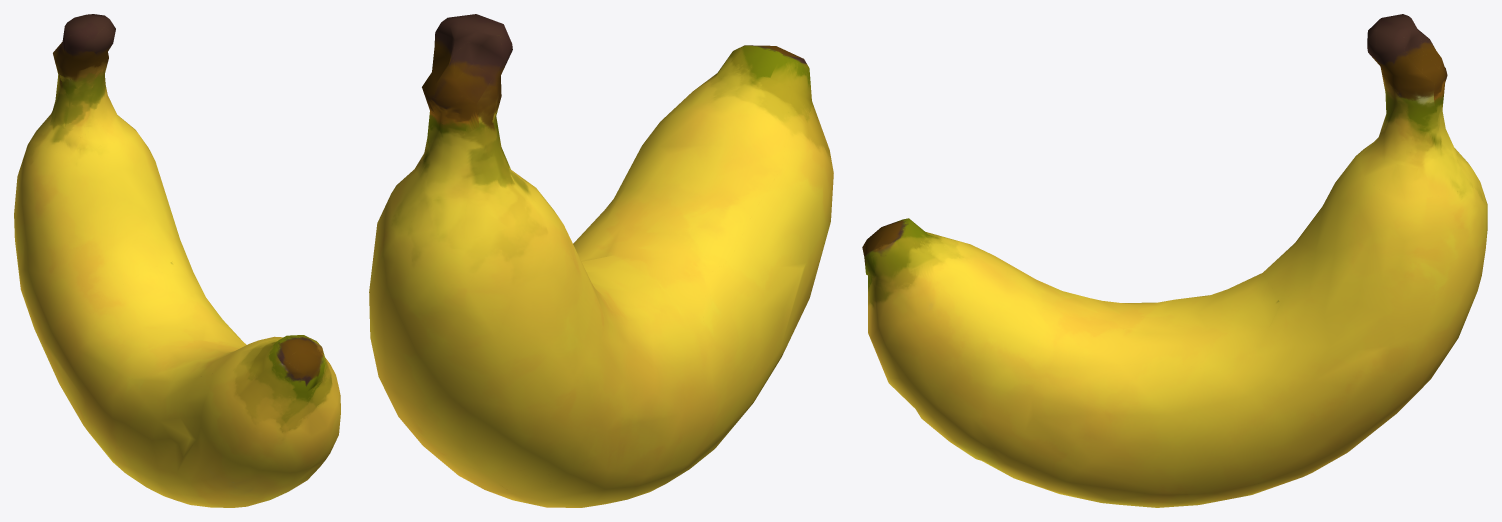
The model's file is banana.fbx.
3 renders of one model, left to right at view 1: azimuth 30°, elevation 25°; view 2: azimuth 150°, elevation 25°; view 3: azimuth 270°, elevation 25°, orthographic. The views are drawn at different scales.
Visible parts, largest first — view 1: NL_Banana; view 2: NL_Banana; view 3: NL_Banana.
Part boxes in pixels (x1,y1,x2,y2): NL_Banana: [14, 14, 340, 507]; NL_Banana: [369, 14, 833, 507]; NL_Banana: [862, 14, 1487, 507].
Size of the model in its own units: 2.67 by 6.65 by 8.06.
